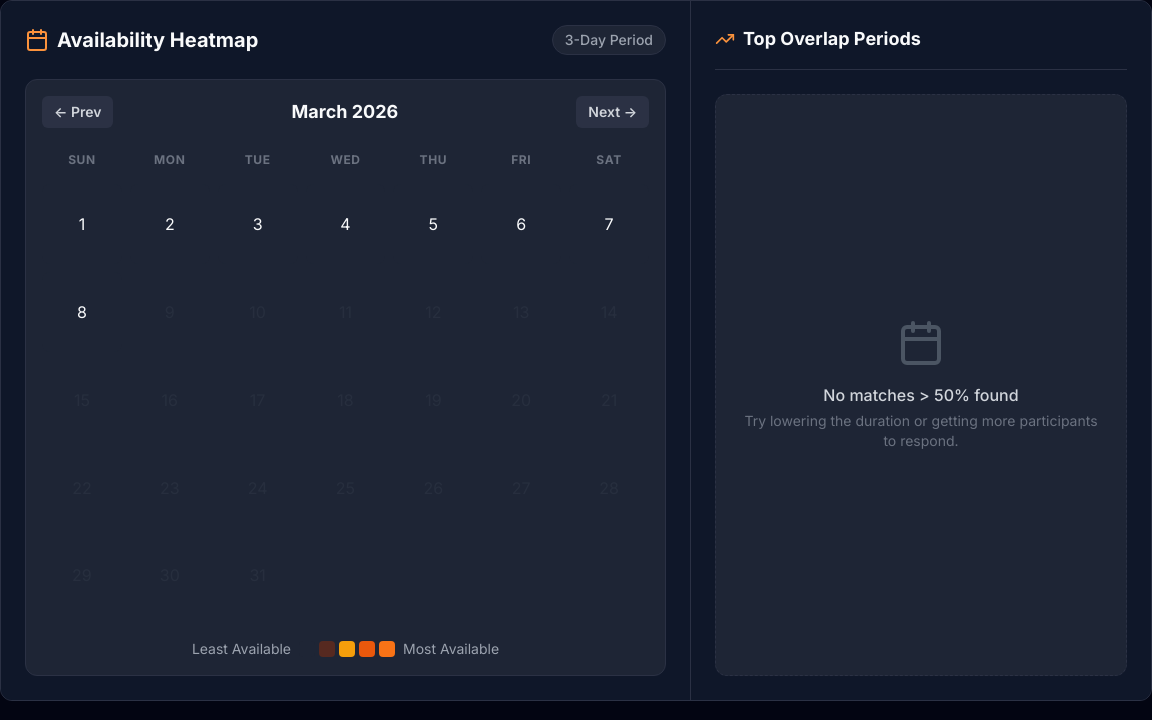
Test: SlidingOverlapCalendar Edge Cases › renders gracefully with empty participants
The image size is (1152, 720).
expect the heading "Availability Heatmap" is shown: met, box [57,26,258,54]
// Hovering shouldn't crash
Hover over the button with test id "day-2026-03-01" at (82, 224), box [42,184,122,264]
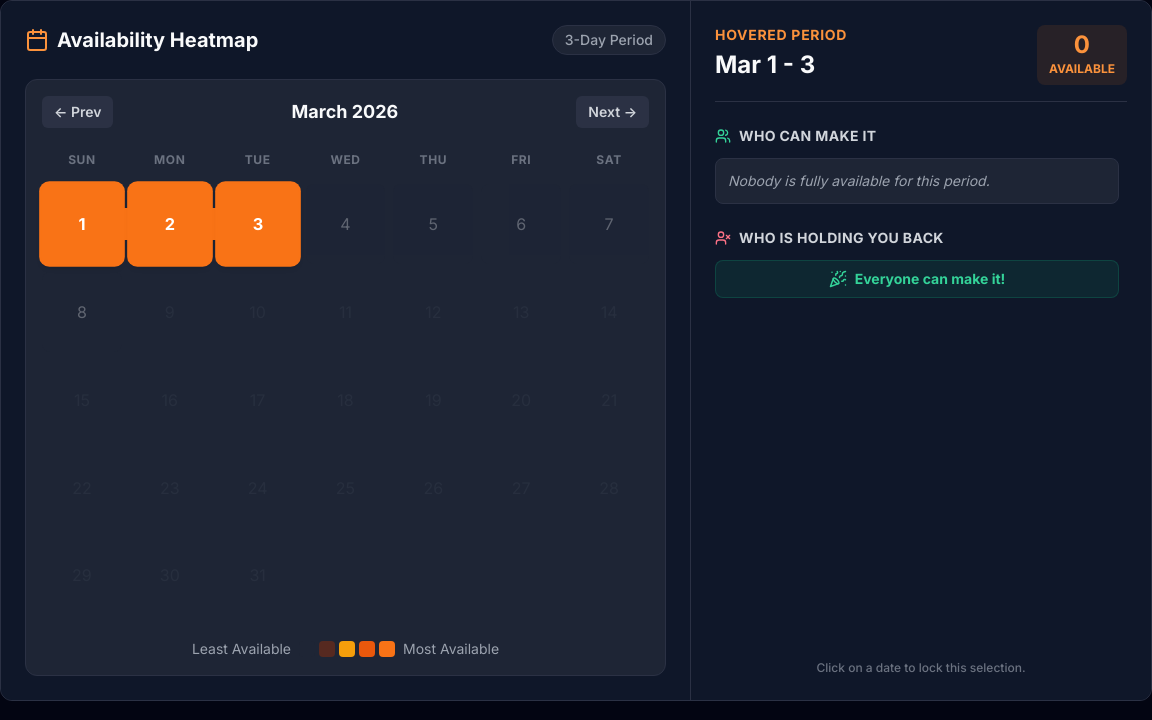
expect the text "Nobody is fully available for this period." is shown: met, box [715,158,1119,204]
